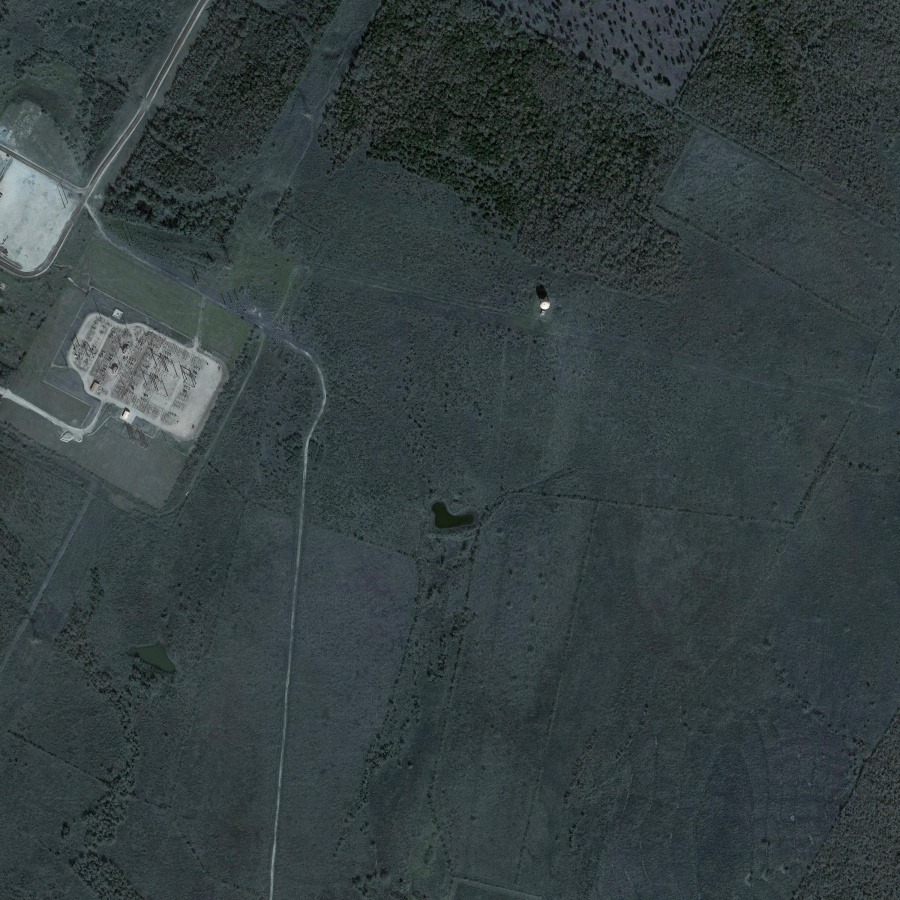PowerPlant: (65, 297, 212, 434)
